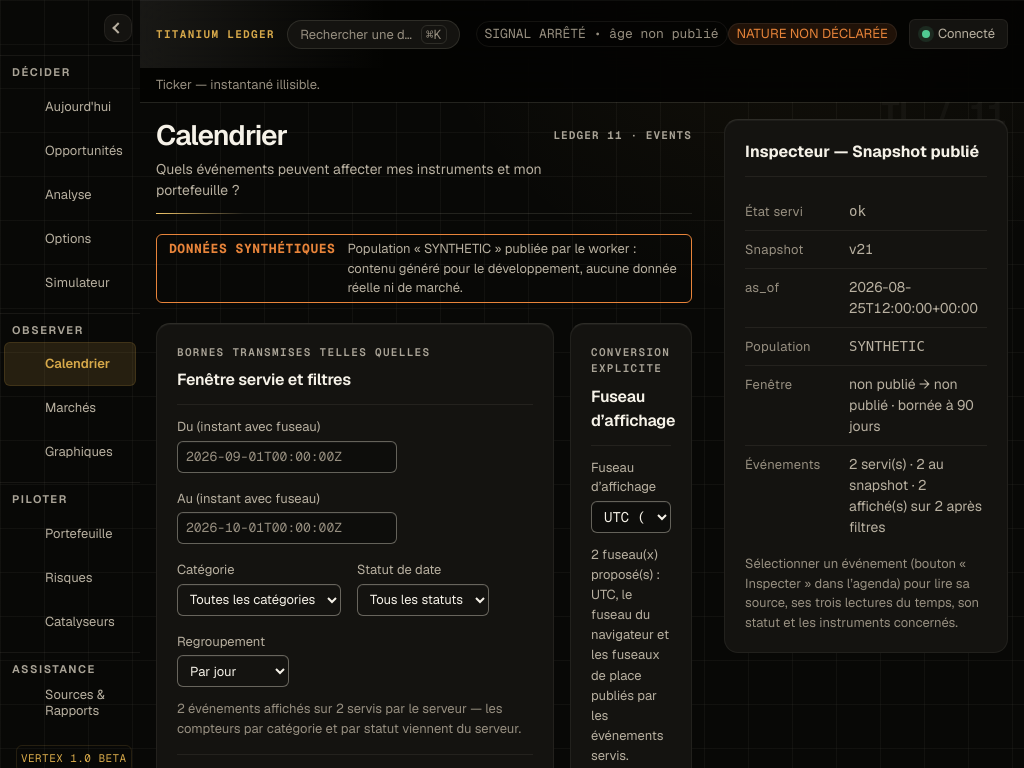
page Calendrier — rendu › persiste le filtre de catégorie dans l’URL et filtre la liste servie
Expected: the heading "Calendrier" is shown, [156, 117, 287, 153]
Select "Estimé (1)" in the dropdown labelled "Statut de date" at (423, 600), box [357, 584, 489, 616]
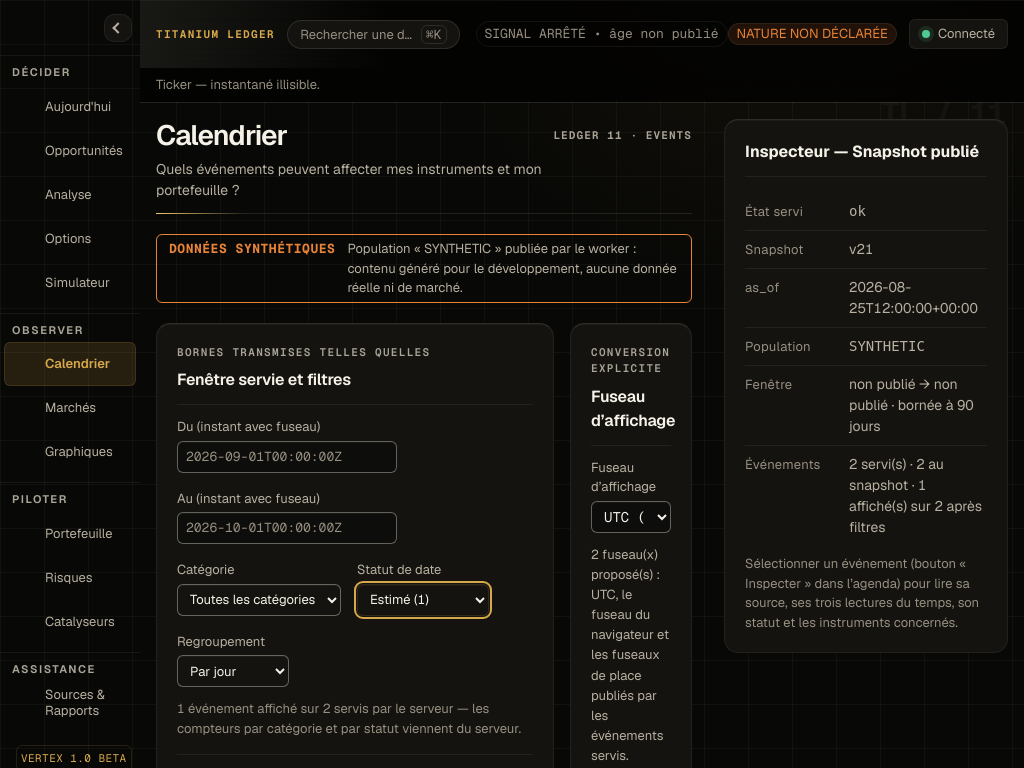
Now the message with test id "cal-filter-count" shows "1 événement affiché", box [177, 699, 533, 738]
